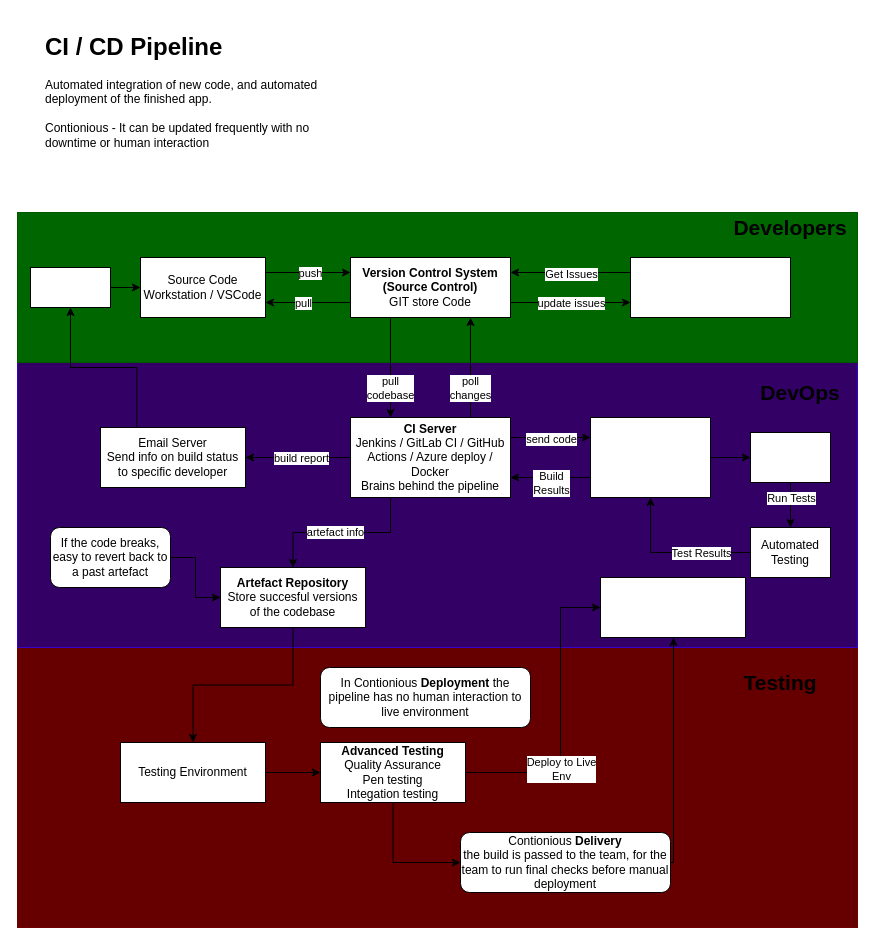
This 875x945 diagram has some shape labels left out. Each missing label, with the centre of its shape:
Building our app docker npm install maven: the point at 650,457
built app: the point at 790,457
Developer: the point at 70,287
Live Environment: the point at 673,607
Project Tracking Jira, Trello, GitHub Issues Product Backlog: the point at 710,287
